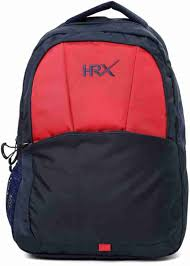backpack: (0, 0, 188, 260)
